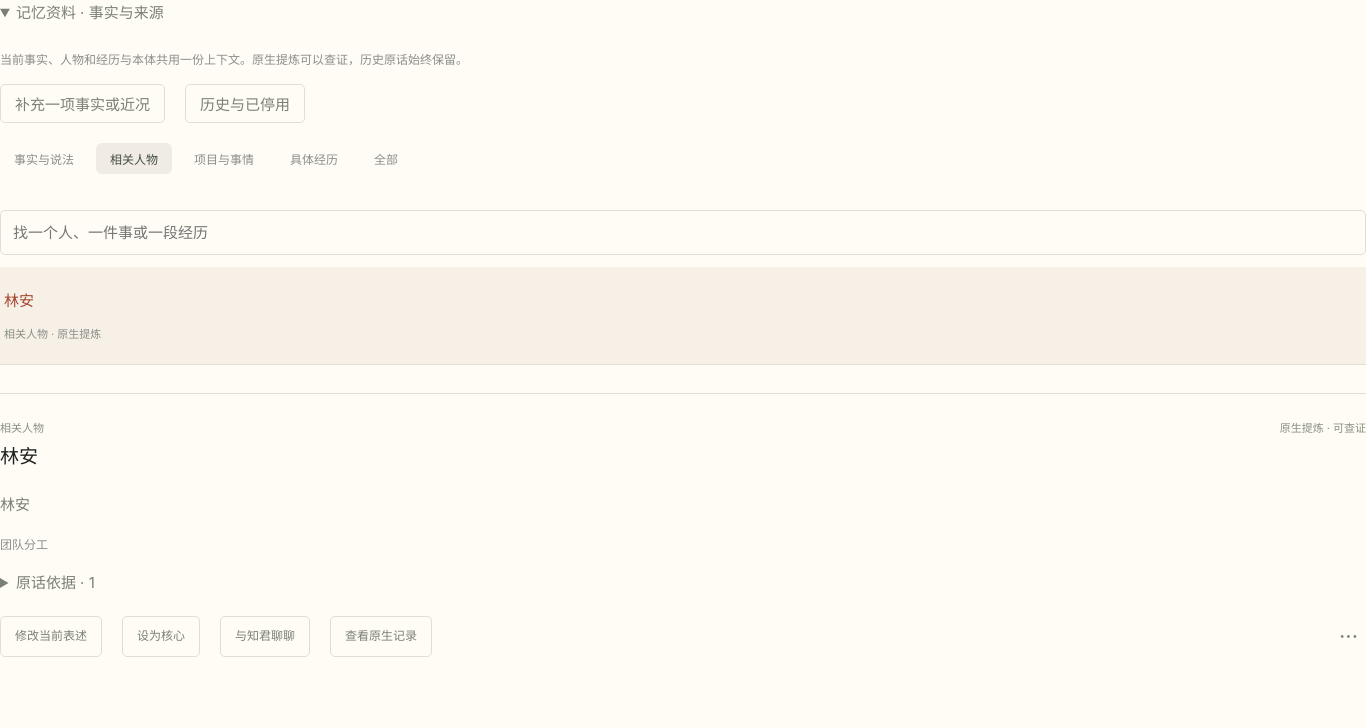
it: saves by target version and accepts unrelated background document progress
This screenshot has width=1366, height=728.
Click the button "修改当前表述" at (51, 637), box [0,616,102,657]
(page scrolled)
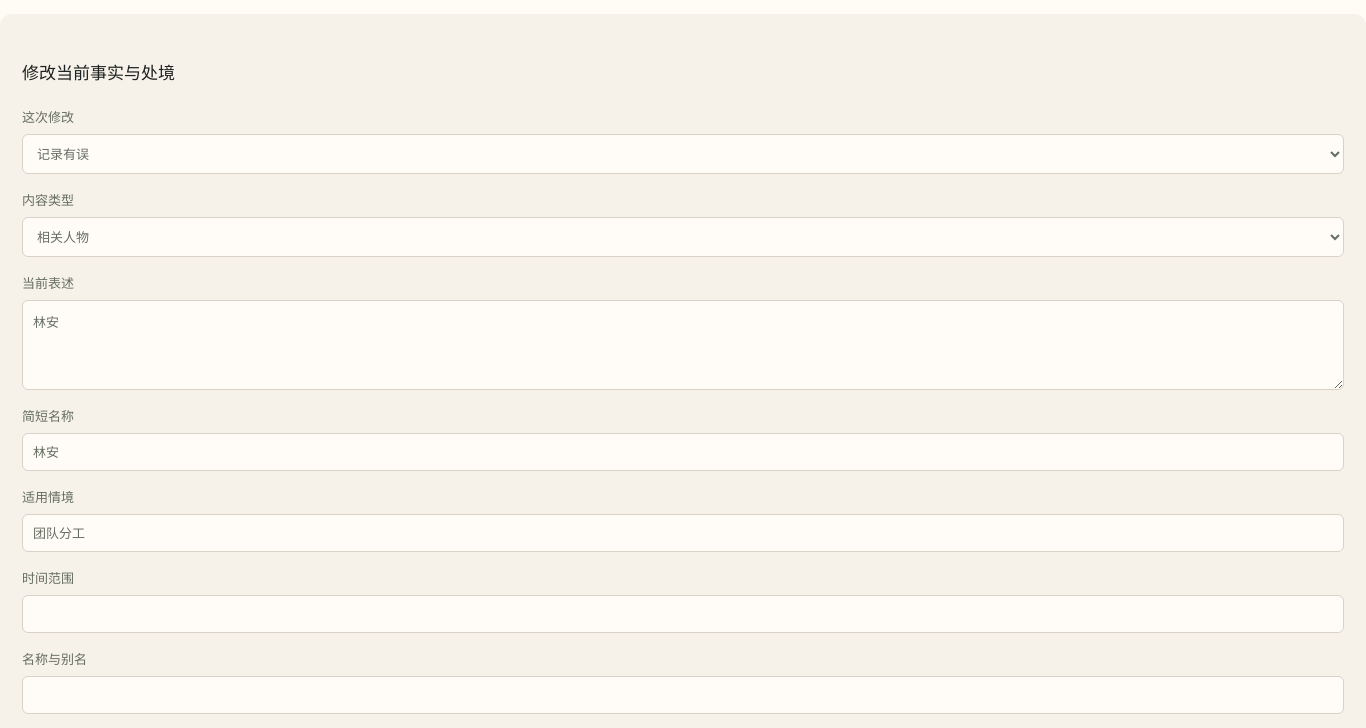
Replace the text in the text box labelled "当前表述" with "林岸" at (683, 345), box [22,300,1344,390]
(page scrolled)
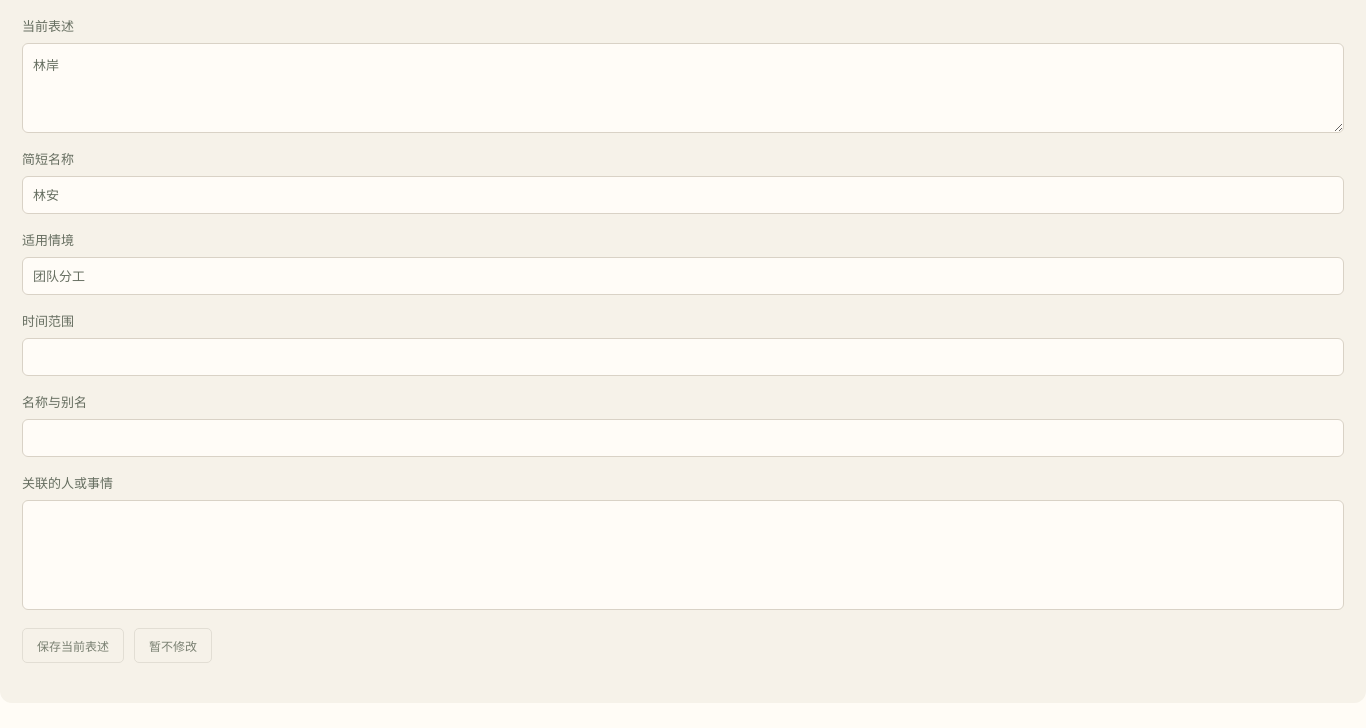
Click the button "保存当前表述" at (73, 645), box [22,628,124,663]
(page scrolled)
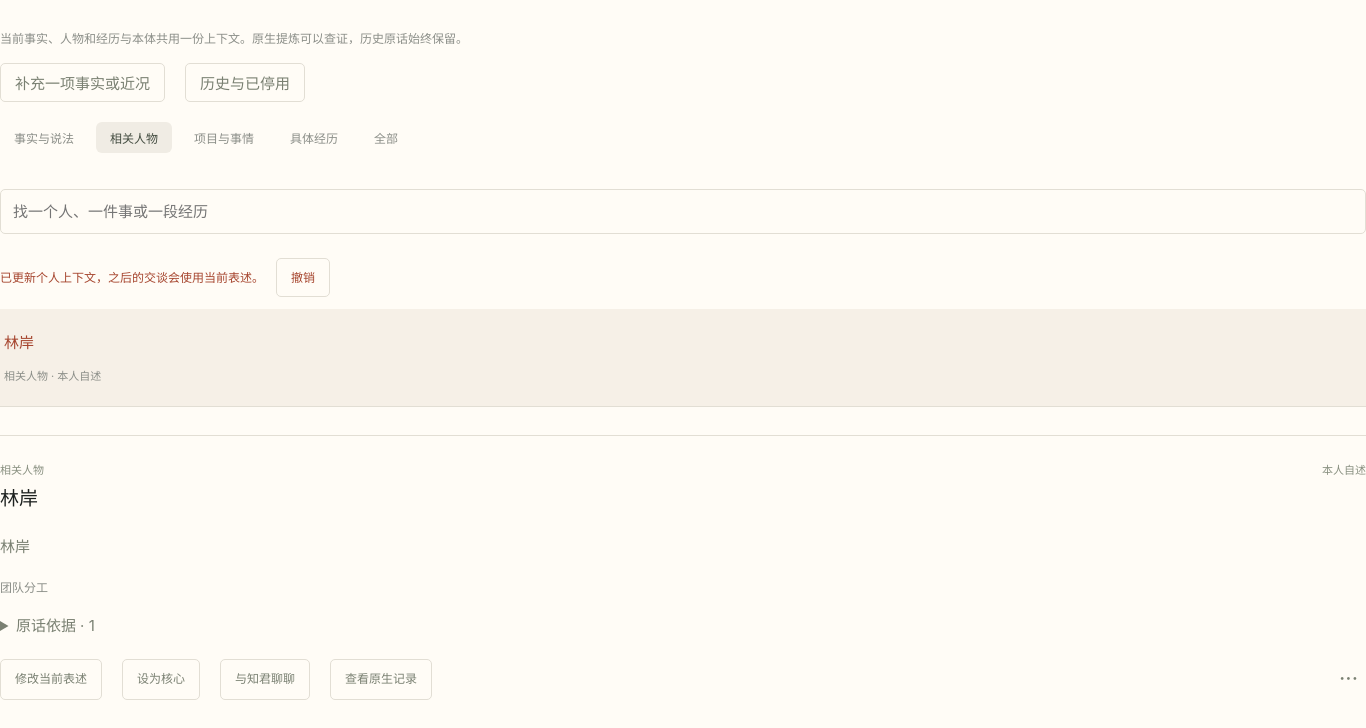
Result: the text "已更新个人上下文，之后的交谈会使用当前表述。" is shown at [0,270,264,285]
